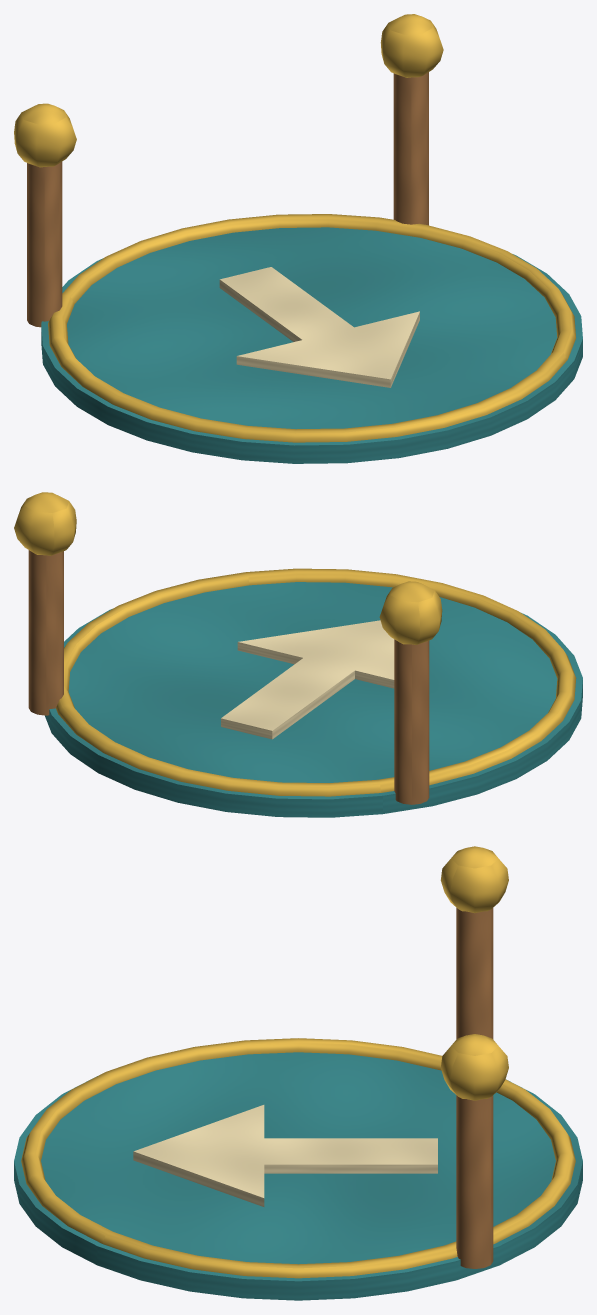
File: upgrade-zone.glb
3 views of the same model, one above another, from view 1: azimuth 30°, elevation 25°; view 2: azimuth 150°, elevation 25°; view 3: azimuth 270°, elevation 25° (orthographic). The views are drawn at different scales.
Visible parts, largest first — view 1: upgrade-zone-mesh; view 2: upgrade-zone-mesh; view 3: upgrade-zone-mesh.
Part boxes in pixels (bbox=[...]): upgrade-zone-mesh: bbox=[14, 14, 582, 463]; upgrade-zone-mesh: bbox=[14, 492, 582, 817]; upgrade-zone-mesh: bbox=[14, 846, 582, 1300].
Size of the model in its own units: 2 by 0.92 by 2.
1 material, 1 textured.
